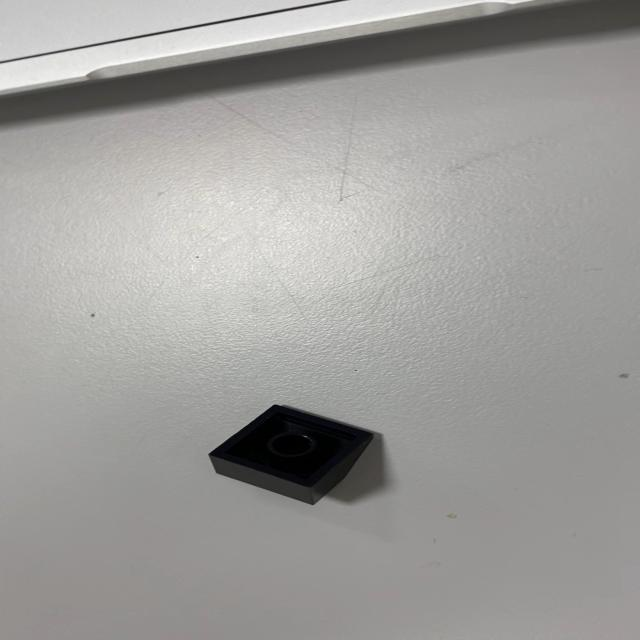P2x2x1: (206, 403, 375, 505)
